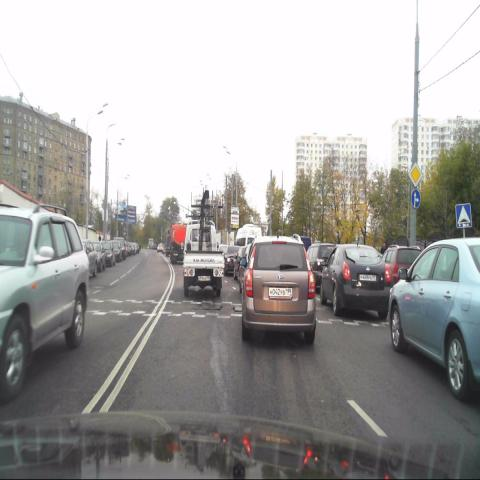5_20: (455, 203, 472, 227)
